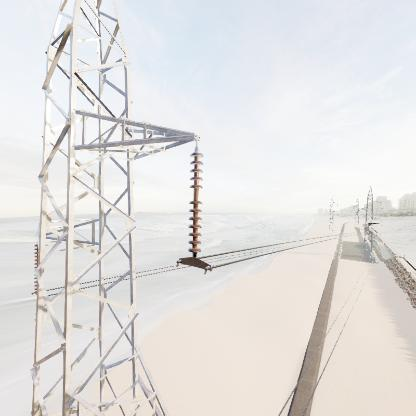insulator: (186, 148, 205, 261)
